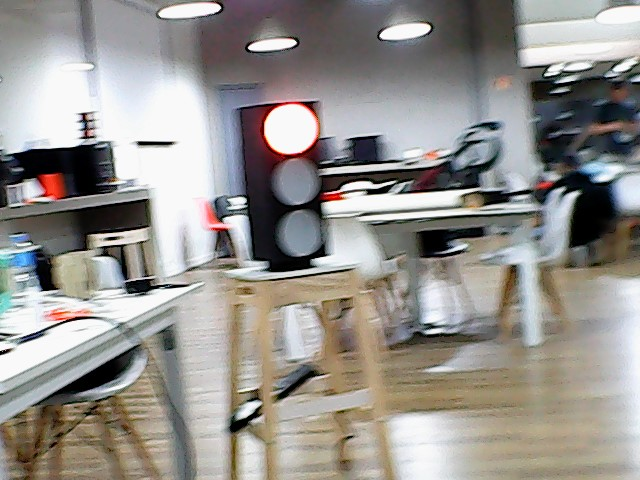vermelho: (237, 99, 333, 259)
